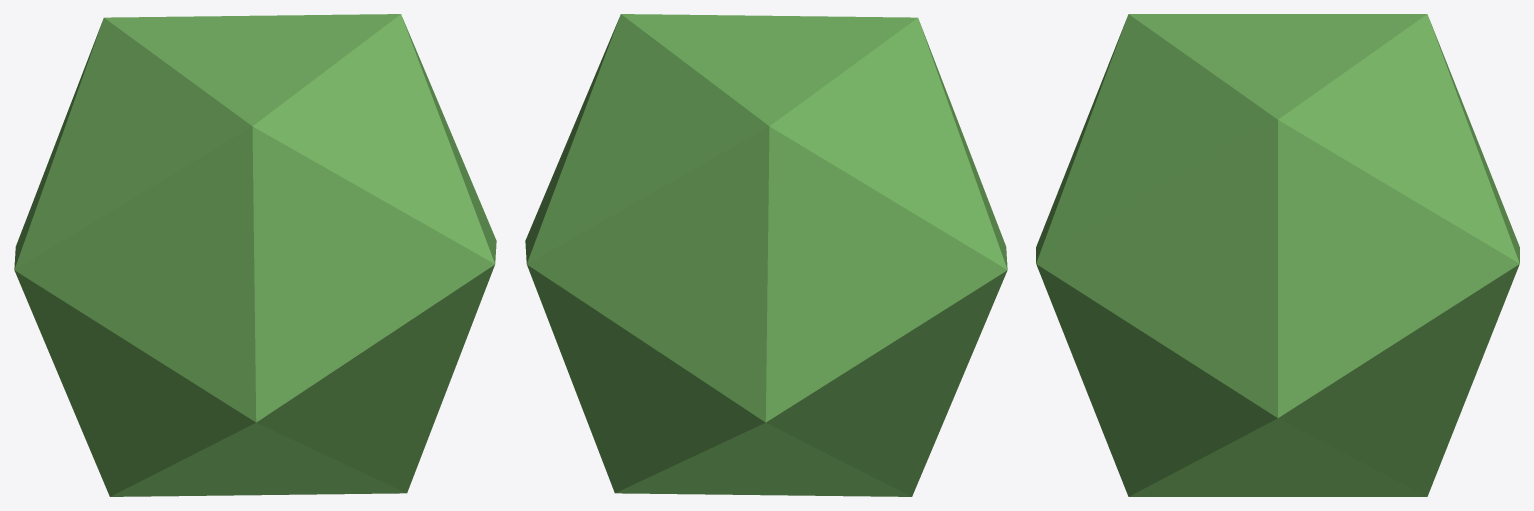
Rendered from Environment_Objects_Bushes_01.fbx.
3 views of the same model, side by side, from view 1: azimuth 30°, elevation 25°; view 2: azimuth 150°, elevation 25°; view 3: azimuth 270°, elevation 25° (orthographic).
Visible parts, largest first — view 1: Environment_Objects_Bushes_01; view 2: Environment_Objects_Bushes_01; view 3: Environment_Objects_Bushes_01.
Boxes of the visible parts, <box> form: Environment_Objects_Bushes_01: <box>14,14,496,496</box>; Environment_Objects_Bushes_01: <box>525,14,1007,496</box>; Environment_Objects_Bushes_01: <box>1036,14,1519,496</box>.
Bounding box in the file's own units: 107 × 87.41 × 92.49.
